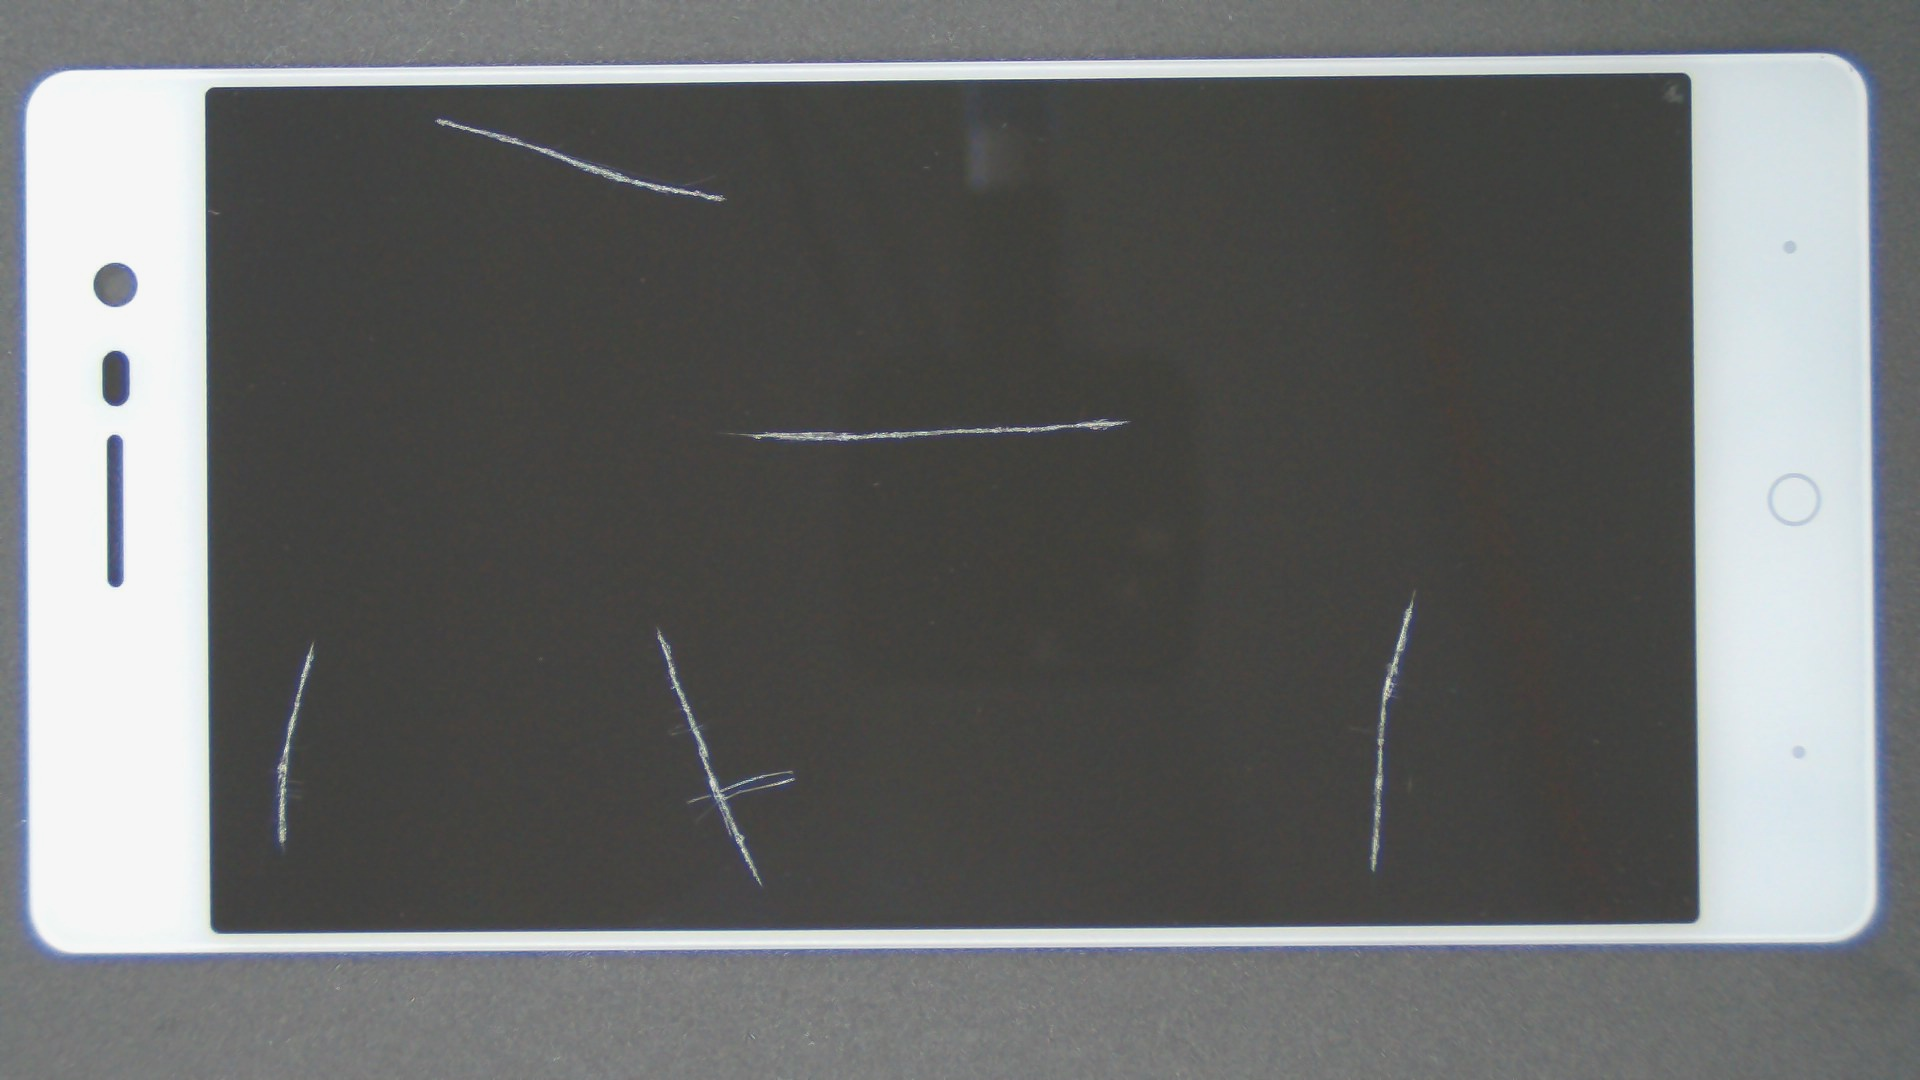oil: (707, 294, 1920, 884), (551, 208, 1648, 628), (330, 313, 986, 940), (156, 319, 468, 960), (218, 58, 654, 178)
